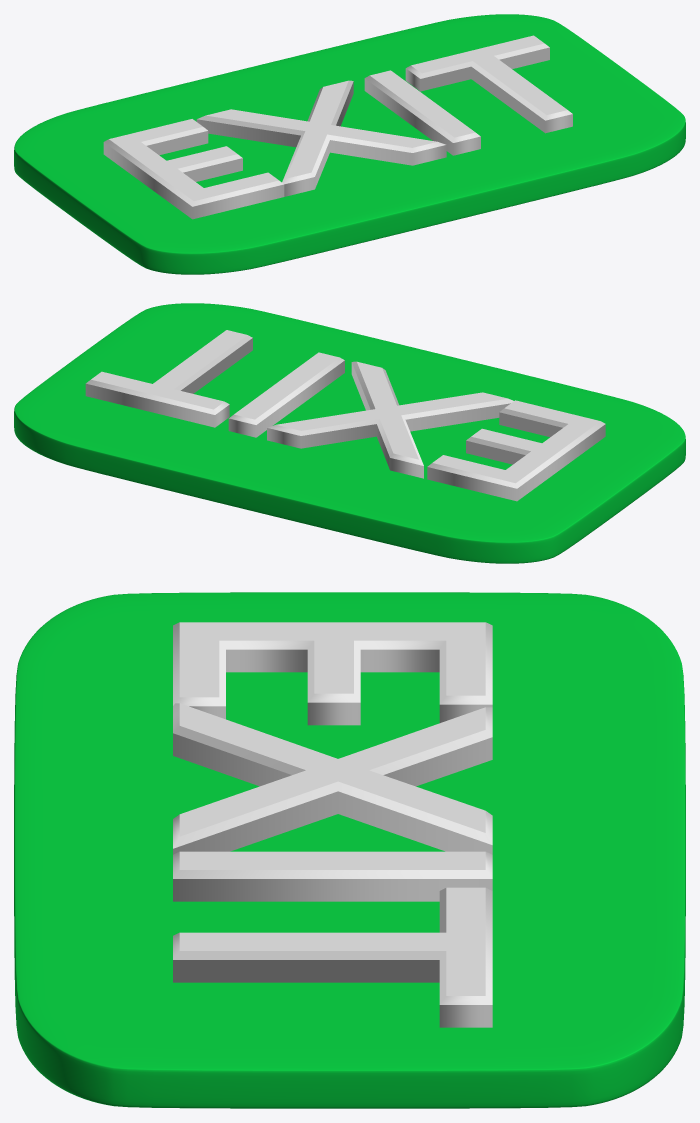
File: exit_button.fbx
The picture shows the model from 3 angles, top to bottom: view 1: azimuth 30°, elevation 25°; view 2: azimuth 150°, elevation 25°; view 3: azimuth 270°, elevation 25°; orthographic projection. The views are drawn at different scales.
Parts seen in each view (by area): view 1: 立方体.001, テキスト; view 2: 立方体.001, テキスト; view 3: 立方体.001, テキスト.
Boxes of the visible parts, x1,y1,x2,y2 form: 立方体.001: (14, 14, 685, 274); テキスト: (103, 35, 572, 219); 立方体.001: (14, 303, 685, 563); テキスト: (85, 330, 605, 501); 立方体.001: (14, 592, 685, 1108); テキスト: (173, 622, 492, 1027).
Bounding box in the file's own units: 253 × 17.22 × 150.
